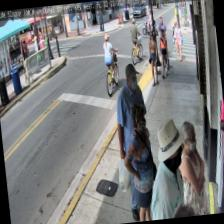person: (110, 62, 157, 223), (141, 116, 194, 220), (118, 103, 162, 222), (174, 118, 210, 216)
